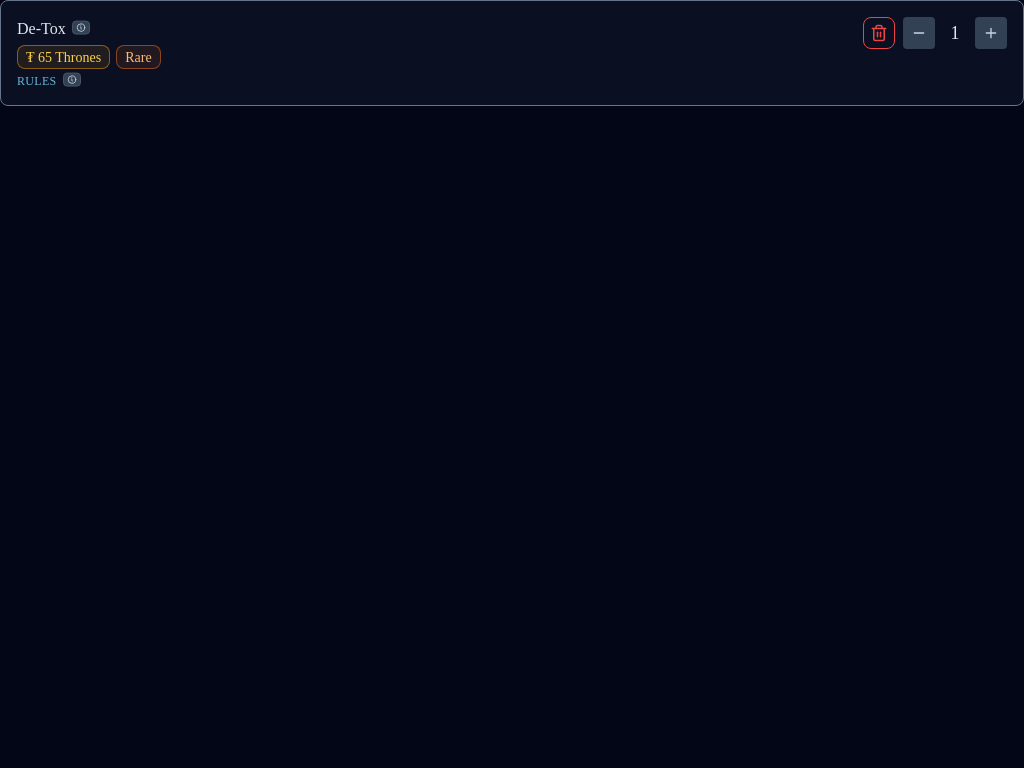
Test case: DrugRow › shows the effect and side effects behind the Rules line
Click the button named "Show information about De-Tox Rules". click: (72,80)
box: [62, 73, 80, 87]
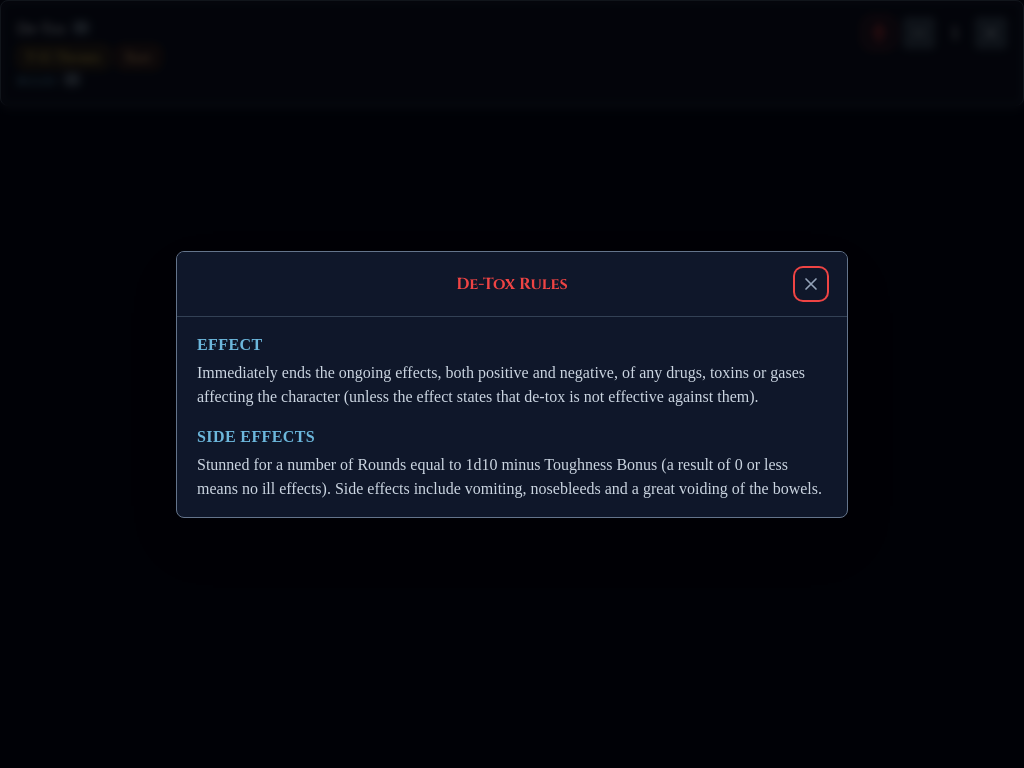
Check: the dialog "De-Tox Rules" shows "Effect", box [197, 336, 262, 352]
Check: the dialog "De-Tox Rules" shows "Side Effects", box [197, 428, 315, 444]
Check: the dialog "De-Tox Rules" shows "Immediately ends the ongoing effects", box [197, 364, 805, 404]
